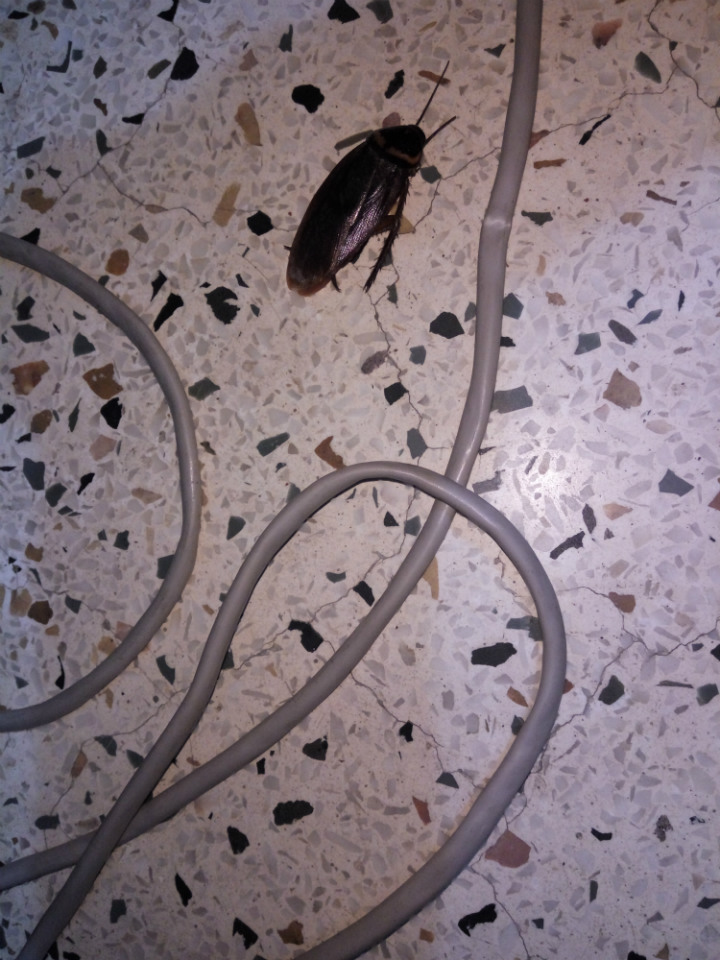cockroach: (237, 40, 471, 341)
